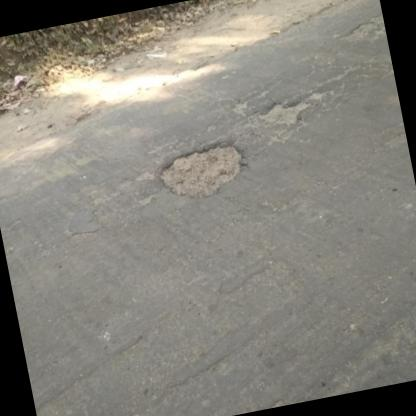pothole: (151, 135, 250, 206), (254, 93, 314, 132)
